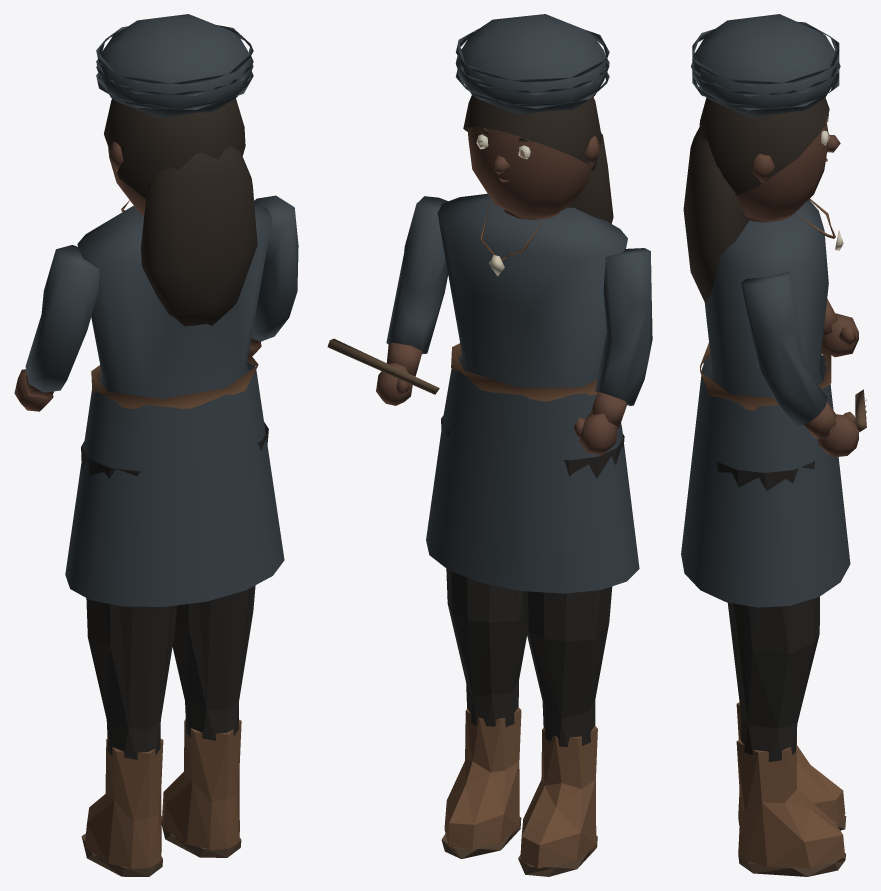
File: SM_NPC_HUMO_MEDIA.glb
The picture shows the model from 3 angles, left to right: view 1: azimuth 30°, elevation 25°; view 2: azimuth 150°, elevation 25°; view 3: azimuth 270°, elevation 25°; orthographic projection. The views are drawn at different scales.
Parts seen in each view (by area): view 1: SM_NPC_HUMO_BODY, SM_NPC_HUMO_HEAD, SM_NPC_HUMO_ARM_L, SM_NPC_HUMO_ARM_R; view 2: SM_NPC_HUMO_BODY, SM_NPC_HUMO_HEAD, SM_NPC_HUMO_ARM_L, SM_NPC_HUMO_ARM_R; view 3: SM_NPC_HUMO_BODY, SM_NPC_HUMO_HEAD, SM_NPC_HUMO_ARM_R, SM_NPC_HUMO_ARM_L.
Boxes of the visible parts, bbox=[...] form: SM_NPC_HUMO_BODY: bbox=[65, 200, 284, 876]; SM_NPC_HUMO_HEAD: bbox=[96, 14, 257, 326]; SM_NPC_HUMO_ARM_L: bbox=[14, 245, 99, 411]; SM_NPC_HUMO_ARM_R: bbox=[249, 195, 298, 356]; SM_NPC_HUMO_BODY: bbox=[426, 193, 639, 876]; SM_NPC_HUMO_HEAD: bbox=[455, 14, 613, 223]; SM_NPC_HUMO_ARM_L: bbox=[573, 248, 652, 455]; SM_NPC_HUMO_ARM_R: bbox=[327, 196, 448, 405]; SM_NPC_HUMO_BODY: bbox=[681, 199, 850, 876]; SM_NPC_HUMO_HEAD: bbox=[683, 14, 840, 303]; SM_NPC_HUMO_ARM_R: bbox=[741, 272, 866, 457]; SM_NPC_HUMO_ARM_L: bbox=[822, 299, 858, 357].
Bounding box in the file's own units: 0.6787 × 1.88 × 0.3861.
